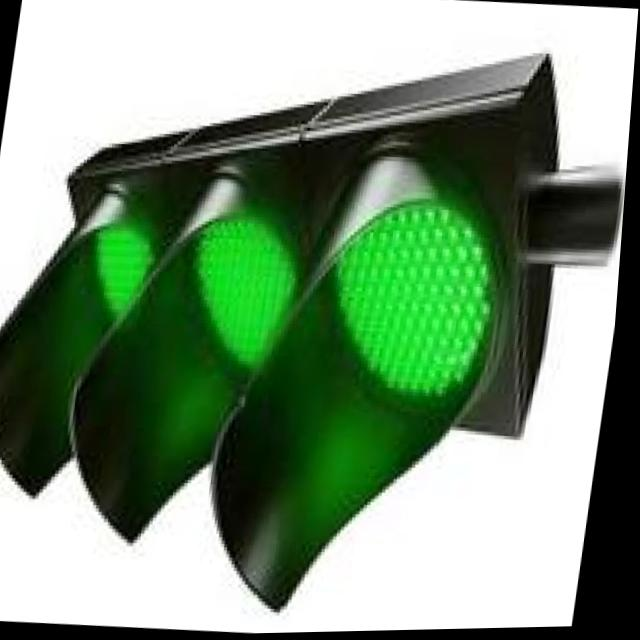green_light: (276, 182, 577, 450), (128, 194, 323, 476), (0, 196, 158, 504)
